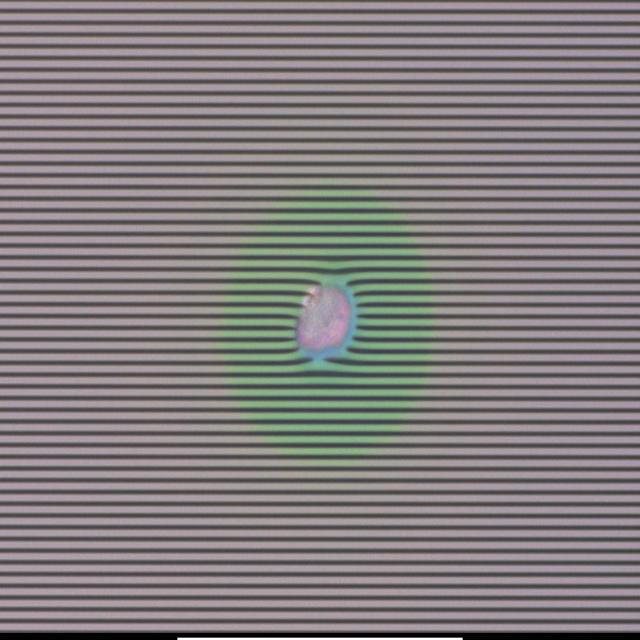03_intrusion: (293, 275, 364, 365)
